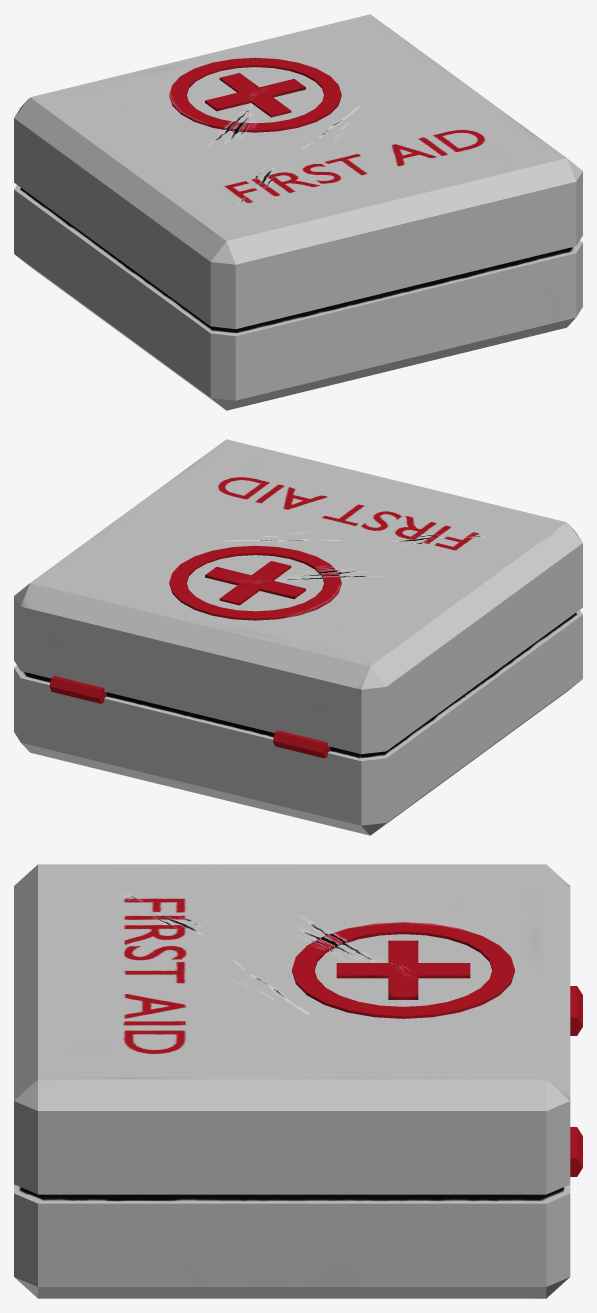
Rendered from MedKit_Low_Poly.fbx.
3 views of the same model, one above another, from view 1: azimuth 30°, elevation 25°; view 2: azimuth 150°, elevation 25°; view 3: azimuth 270°, elevation 25° (orthographic). The views are drawn at different scales.
Parts seen in each view (by area): view 1: MedKit; view 2: MedKit; view 3: MedKit.
Part boxes in pixels (x1,y1,x2,y2): MedKit: (14,14,582,410); MedKit: (14,439,582,835); MedKit: (14,864,582,1298).
Bounding box in the file's own units: 200 × 88.16 × 205.
